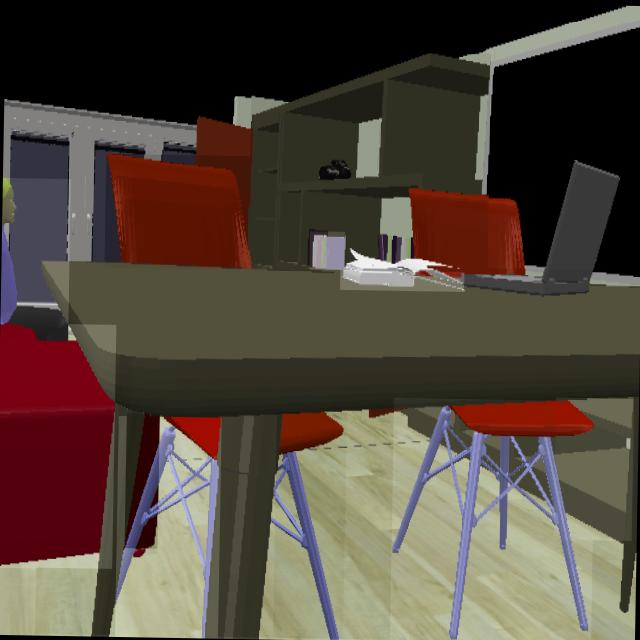book: (340, 256, 464, 291), (310, 232, 344, 269)
bookshelf: (248, 54, 490, 269), (555, 400, 634, 540)
chair: (391, 401, 594, 640), (115, 417, 221, 638), (107, 154, 250, 270), (276, 413, 344, 639), (410, 190, 526, 279)
laptop: (460, 161, 620, 297)
monitor: (483, 24, 640, 274)
person: (0, 177, 68, 341)
sofa: (0, 324, 115, 567), (124, 414, 159, 547)
table: (41, 260, 640, 638)
